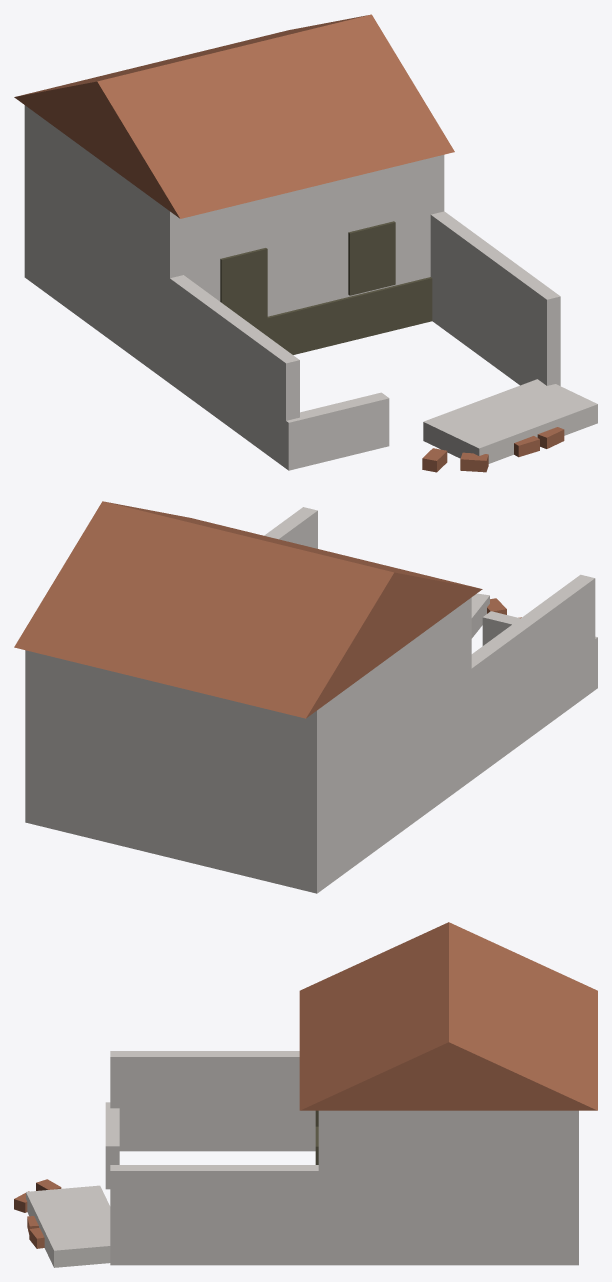
File: SM_CasaPatio_v4_Derruida_LOD1.fbx
The picture shows the model from 3 angles, top to bottom: view 1: azimuth 30°, elevation 25°; view 2: azimuth 150°, elevation 25°; view 3: azimuth 270°, elevation 25°; orthographic projection. The views are drawn at different scales.
Parts seen in each view (by area): view 1: SM_pueblo_valenciano_v19_LOD1; view 2: SM_pueblo_valenciano_v19_LOD1; view 3: SM_pueblo_valenciano_v19_LOD1.
Part boxes in pixels (box(x1,y1,x2,y2)): SM_pueblo_valenciano_v19_LOD1: box(14, 14, 597, 472); SM_pueblo_valenciano_v19_LOD1: box(14, 501, 597, 893); SM_pueblo_valenciano_v19_LOD1: box(14, 922, 597, 1267).
Bounding box in the file's own units: 6.13 × 5.2 × 12.33.
